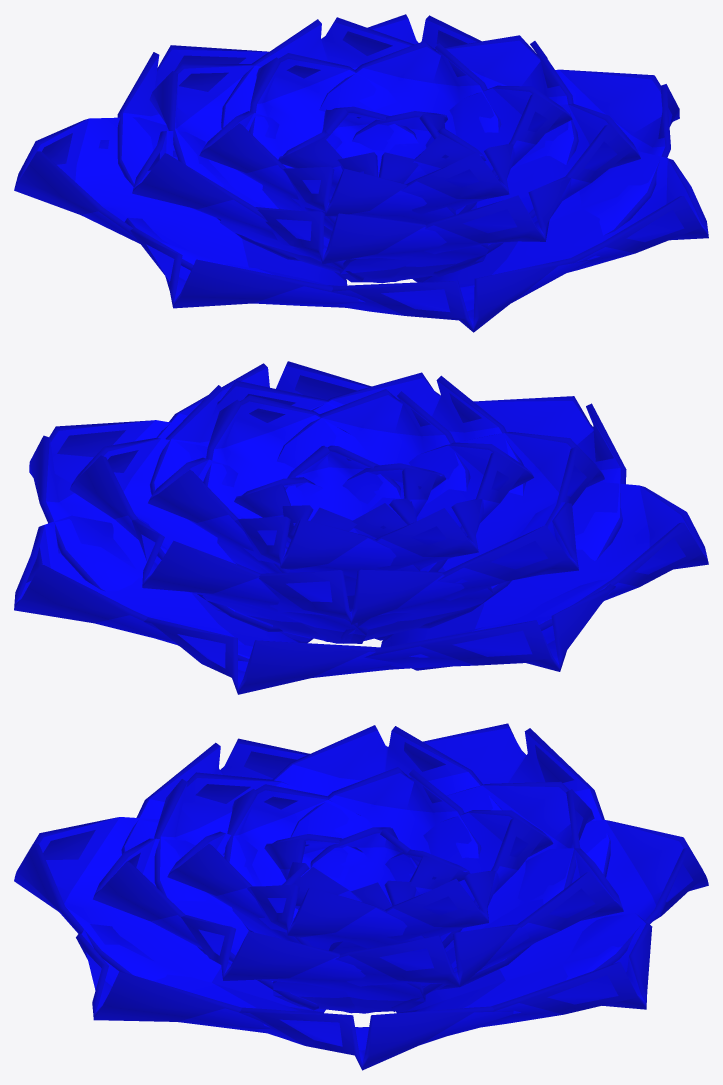
File: garden-rose-bloom-head-0-0000ff.glb
The picture shows the model from 3 angles, top to bottom: view 1: azimuth 30°, elevation 25°; view 2: azimuth 150°, elevation 25°; view 3: azimuth 270°, elevation 25°; orthographic projection. The views are drawn at different scales.
Parts seen in each view (by area): view 1: rose-bloom-head-0-0000ff; view 2: rose-bloom-head-0-0000ff; view 3: rose-bloom-head-0-0000ff.
Boxes of the visible parts, x1,y1,x2,y2 form: rose-bloom-head-0-0000ff: (14, 14, 708, 332); rose-bloom-head-0-0000ff: (14, 361, 708, 694); rose-bloom-head-0-0000ff: (14, 723, 708, 1070).
Size of the model in its own units: 0.1476 by 0.0456 by 0.1464.
